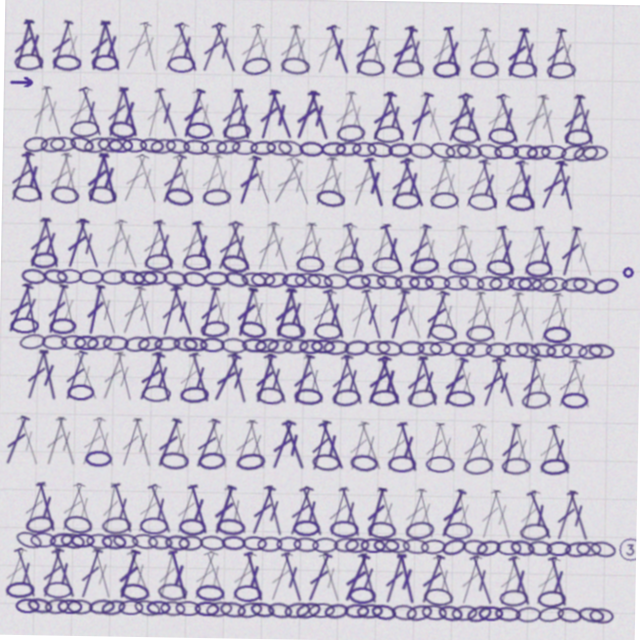chain: (237, 56, 268, 78), (219, 254, 249, 276), (238, 320, 268, 342), (85, 188, 116, 209), (313, 188, 344, 209), (408, 254, 439, 275), (408, 386, 439, 407), (522, 386, 553, 407), (66, 518, 97, 539), (408, 518, 439, 539), (465, 453, 497, 473), (18, 534, 47, 556), (447, 122, 477, 143), (428, 320, 458, 341), (28, 519, 59, 539), (470, 600, 498, 622), (219, 123, 249, 143), (48, 189, 78, 209), (162, 189, 192, 209), (200, 321, 230, 341), (333, 387, 363, 407), (238, 453, 268, 473), (124, 585, 154, 605), (428, 585, 458, 605), (65, 138, 93, 159), (426, 138, 454, 159), (556, 138, 584, 159), (444, 534, 472, 555), (299, 600, 327, 621), (105, 123, 134, 143), (485, 255, 514, 275), (276, 57, 306, 76), (542, 57, 572, 76), (333, 123, 363, 142), (10, 189, 40, 208), (333, 255, 363, 274), (219, 519, 249, 538), (523, 519, 553, 538), (162, 585, 192, 604), (80, 139, 108, 159), (274, 139, 302, 159), (569, 139, 597, 159), (222, 271, 250, 291), (305, 271, 333, 291), (138, 601, 166, 621), (410, 601, 438, 621), (257, 387, 286, 406), (200, 453, 229, 472), (314, 453, 343, 472), (352, 453, 381, 472), (390, 58, 420, 76), (371, 124, 401, 142), (473, 139, 500, 159), (200, 190, 230, 208), (143, 256, 173, 274), (571, 271, 598, 291), (592, 271, 619, 291), (276, 322, 306, 340), (515, 337, 542, 357), (542, 454, 572, 472), (105, 520, 135, 538), (479, 535, 506, 555), (105, 601, 132, 621), (241, 601, 268, 621), (363, 139, 391, 158), (359, 271, 387, 290), (457, 271, 485, 290), (19, 337, 47, 356), (86, 337, 114, 356), (593, 535, 621, 554), (288, 601, 316, 620), (542, 601, 570, 620), (582, 601, 610, 620), (10, 58, 39, 76), (48, 58, 77, 76), (352, 58, 381, 76), (428, 58, 457, 76), (67, 124, 96, 142), (485, 124, 514, 142), (561, 124, 590, 142), (390, 190, 419, 208), (466, 190, 495, 208), (504, 190, 533, 208), (29, 256, 58, 274), (314, 322, 343, 340), (466, 322, 495, 340), (181, 388, 210, 406), (295, 388, 324, 406), (371, 388, 400, 406), (162, 454, 191, 472), (504, 454, 533, 472), (371, 520, 400, 538), (10, 586, 39, 604), (200, 586, 229, 604), (504, 586, 533, 604), (542, 586, 571, 604), (212, 139, 239, 158), (262, 271, 289, 290), (137, 337, 164, 356), (254, 337, 281, 356), (52, 535, 79, 554), (513, 535, 540, 554), (31, 601, 58, 620), (371, 256, 401, 273), (524, 256, 552, 274), (376, 338, 404, 356), (182, 520, 210, 538), (210, 602, 238, 620), (466, 58, 495, 75), (504, 58, 533, 75), (428, 190, 457, 207), (295, 256, 324, 273), (447, 256, 476, 273), (10, 322, 39, 339), (143, 388, 172, 405), (447, 388, 476, 405), (390, 454, 419, 471), (428, 454, 457, 471), (143, 520, 172, 537), (333, 520, 362, 537), (447, 520, 476, 537), (48, 586, 77, 603), (238, 586, 267, 603), (147, 140, 174, 158), (453, 140, 480, 158), (118, 272, 145, 290), (161, 272, 188, 290), (375, 272, 402, 290), (124, 338, 151, 356), (267, 338, 294, 356), (466, 338, 493, 356), (63, 536, 90, 554), (568, 536, 595, 554), (224, 602, 251, 620), (254, 602, 281, 620), (328, 602, 355, 620), (375, 602, 402, 620), (442, 602, 469, 620), (561, 602, 588, 620), (87, 58, 115, 75), (163, 58, 191, 75), (182, 124, 210, 141), (182, 256, 210, 273), (49, 322, 77, 339), (543, 322, 571, 339), (68, 388, 96, 405), (562, 388, 590, 405), (87, 454, 115, 471), (296, 520, 324, 537), (353, 586, 381, 603), (20, 140, 46, 158), (37, 140, 63, 158), (405, 140, 431, 158), (523, 140, 549, 158), (20, 272, 46, 290), (42, 272, 68, 290), (181, 272, 207, 290), (240, 272, 266, 290), (344, 338, 370, 356), (578, 338, 604, 356), (272, 602, 298, 620), (94, 140, 121, 157), (263, 140, 290, 157), (332, 140, 359, 157), (579, 140, 606, 157), (541, 272, 568, 289), (560, 272, 587, 289), (154, 338, 181, 355), (283, 338, 310, 355), (530, 338, 557, 355), (546, 338, 573, 355), (588, 338, 615, 355), (116, 536, 143, 553), (135, 536, 162, 553), (406, 536, 433, 553), (93, 602, 120, 619), (313, 602, 340, 619), (361, 602, 388, 619), (456, 602, 483, 619), (136, 140, 162, 157), (162, 140, 188, 157), (488, 272, 514, 289), (173, 338, 199, 355), (183, 338, 209, 355), (337, 536, 363, 553), (348, 536, 374, 553), (388, 536, 414, 553), (466, 536, 492, 553), (531, 536, 557, 553), (49, 602, 75, 619), (426, 602, 452, 619), (442, 141, 469, 157), (221, 339, 248, 355), (323, 339, 350, 355), (203, 537, 230, 553), (499, 603, 526, 619), (520, 603, 547, 619), (180, 141, 206, 157), (198, 141, 224, 157), (247, 141, 273, 157), (424, 273, 450, 289), (531, 273, 557, 289), (365, 339, 391, 355), (90, 537, 116, 553), (151, 537, 177, 553), (168, 537, 194, 553), (297, 537, 323, 553), (316, 537, 342, 553), (424, 537, 450, 553), (72, 603, 98, 619), (396, 603, 422, 619), (296, 141, 321, 157), (318, 141, 343, 157), (385, 141, 410, 157), (132, 273, 157, 289), (323, 273, 348, 289), (345, 273, 370, 289), (394, 273, 419, 289), (408, 273, 433, 289), (418, 339, 443, 355), (486, 339, 511, 355), (105, 537, 130, 553), (182, 537, 207, 553), (261, 537, 286, 553), (165, 603, 190, 619), (594, 603, 619, 619), (47, 141, 73, 156), (229, 141, 255, 156), (538, 141, 564, 156), (56, 273, 82, 288), (294, 273, 320, 288), (476, 273, 502, 288), (42, 339, 68, 354), (61, 339, 87, 354), (103, 339, 129, 354), (399, 339, 425, 354), (562, 339, 588, 354), (34, 537, 60, 552), (377, 537, 403, 552), (180, 603, 206, 618), (105, 141, 130, 156), (119, 141, 144, 156), (349, 141, 374, 156), (491, 141, 516, 156), (510, 141, 535, 156), (78, 273, 103, 288), (100, 273, 125, 288), (142, 273, 167, 288), (203, 273, 228, 288), (250, 273, 275, 288), (281, 273, 306, 288), (443, 273, 468, 288), (507, 273, 532, 288), (517, 273, 542, 288), (74, 339, 99, 354), (200, 339, 225, 354), (242, 339, 267, 354), (299, 339, 324, 354), (311, 339, 336, 354), (430, 339, 455, 354), (451, 339, 476, 354), (504, 339, 529, 354), (74, 537, 99, 552), (225, 537, 250, 552), (246, 537, 271, 552), (280, 537, 305, 552), (364, 537, 389, 552), (500, 537, 525, 552), (550, 537, 575, 552), (580, 537, 605, 552), (20, 603, 45, 618), (62, 603, 87, 618), (123, 603, 148, 618), (151, 603, 176, 618), (199, 603, 224, 618), (349, 603, 374, 618), (483, 603, 508, 618)
double: (265, 156, 304, 208), (209, 353, 246, 406), (115, 23, 151, 76), (203, 23, 238, 76), (381, 23, 416, 76), (115, 155, 150, 208), (457, 155, 492, 208), (533, 155, 568, 208), (134, 353, 169, 406), (317, 419, 352, 472), (526, 485, 561, 538), (127, 551, 162, 604), (343, 551, 378, 604), (154, 23, 188, 76), (59, 89, 93, 142), (71, 89, 105, 142), (147, 89, 181, 142), (185, 89, 219, 142), (261, 89, 295, 142), (439, 89, 473, 142), (451, 89, 485, 142), (515, 89, 549, 142), (154, 155, 188, 208), (280, 155, 314, 208), (394, 155, 428, 208), (496, 155, 530, 208), (109, 221, 143, 274), (211, 221, 245, 274), (325, 221, 359, 274), (375, 221, 409, 274), (477, 221, 511, 274), (2, 287, 36, 340), (306, 287, 340, 340), (394, 287, 428, 340), (71, 353, 105, 406), (439, 353, 473, 406), (192, 419, 226, 472), (356, 419, 390, 472), (458, 419, 492, 472), (147, 485, 181, 538), (223, 485, 257, 538), (439, 485, 473, 538), (52, 551, 86, 604), (192, 551, 226, 604), (230, 551, 264, 604), (306, 551, 340, 604), (534, 551, 568, 604), (166, 23, 199, 76), (192, 23, 225, 76), (230, 23, 263, 76), (318, 23, 351, 76), (287, 89, 320, 142), (363, 89, 396, 142), (413, 89, 446, 142), (477, 89, 510, 142), (489, 89, 522, 142), (166, 155, 199, 208), (242, 155, 275, 208), (71, 221, 104, 274), (173, 221, 206, 274), (223, 221, 256, 274), (116, 287, 149, 340), (166, 287, 199, 340), (420, 287, 453, 340), (432, 287, 465, 340), (508, 287, 541, 340), (534, 287, 567, 340), (97, 353, 130, 406), (261, 353, 294, 406), (363, 353, 396, 406), (375, 353, 408, 406), (489, 353, 522, 406), (527, 353, 560, 406), (553, 353, 586, 406), (2, 419, 35, 472), (78, 419, 111, 472), (154, 419, 187, 472), (268, 419, 301, 472), (280, 419, 313, 472), (470, 419, 503, 472), (546, 419, 579, 472), (59, 485, 92, 538), (135, 485, 168, 538), (249, 485, 282, 538), (287, 485, 320, 538), (299, 485, 332, 538), (14, 551, 47, 604), (204, 551, 237, 604), (420, 551, 453, 604), (470, 551, 503, 604), (243, 23, 275, 76), (307, 23, 339, 76), (345, 23, 377, 76), (547, 23, 579, 76), (300, 89, 332, 142), (376, 89, 408, 142), (3, 155, 35, 208), (15, 155, 47, 208), (41, 155, 73, 208), (129, 155, 161, 208), (307, 155, 339, 208), (345, 155, 377, 208), (383, 155, 415, 208), (433, 155, 465, 208), (136, 221, 168, 274), (250, 221, 282, 274), (262, 221, 294, 274), (402, 221, 434, 274), (414, 221, 446, 274), (452, 221, 484, 274), (566, 221, 598, 274), (91, 287, 123, 340), (319, 287, 351, 340), (471, 287, 503, 340), (60, 353, 92, 406), (300, 353, 332, 406), (338, 353, 370, 406), (478, 353, 510, 406), (566, 353, 598, 406), (15, 419, 47, 472), (91, 419, 123, 472), (231, 419, 263, 472), (110, 485, 142, 538), (338, 485, 370, 538), (402, 485, 434, 538), (566, 485, 598, 538), (3, 551, 35, 604), (269, 551, 301, 604), (281, 551, 313, 604), (319, 551, 351, 604), (433, 551, 465, 604), (509, 551, 541, 604), (15, 23, 46, 76), (41, 23, 72, 76), (269, 23, 300, 76), (281, 23, 312, 76), (357, 23, 388, 76), (459, 23, 490, 76), (471, 23, 502, 76), (497, 23, 528, 76), (34, 89, 65, 142), (174, 89, 205, 142), (326, 89, 357, 142), (338, 89, 369, 142), (402, 89, 433, 142), (193, 155, 224, 208), (231, 155, 262, 208), (421, 155, 452, 208), (509, 155, 540, 208), (60, 221, 91, 274), (148, 221, 179, 274), (288, 221, 319, 274), (338, 221, 369, 274), (516, 221, 547, 274), (357, 287, 388, 340), (22, 353, 53, 406), (174, 353, 205, 406), (186, 353, 217, 406), (53, 419, 84, 472), (383, 419, 414, 472), (395, 419, 426, 472), (535, 419, 566, 472), (22, 485, 53, 538), (72, 485, 103, 538), (174, 485, 205, 538), (212, 485, 243, 538), (376, 485, 407, 538), (490, 485, 521, 538), (554, 485, 585, 538), (41, 551, 72, 604), (79, 551, 110, 604), (92, 23, 122, 76), (396, 23, 426, 76), (422, 23, 452, 76), (510, 23, 540, 76), (111, 89, 141, 142), (213, 89, 243, 142), (555, 89, 585, 142), (567, 89, 597, 142), (80, 155, 110, 208), (358, 155, 388, 208), (472, 155, 502, 208), (23, 221, 53, 274), (99, 221, 129, 274), (187, 221, 217, 274), (441, 221, 471, 274), (529, 221, 559, 274), (206, 287, 236, 340), (270, 287, 300, 340), (251, 353, 281, 406), (289, 353, 319, 406), (327, 353, 357, 406), (415, 353, 445, 406), (453, 353, 483, 406), (42, 419, 72, 472), (118, 419, 148, 472), (130, 419, 160, 472), (206, 419, 236, 472), (244, 419, 274, 472), (434, 419, 464, 472), (35, 485, 65, 538), (187, 485, 217, 538), (517, 485, 547, 538), (92, 551, 122, 604), (118, 551, 148, 604), (168, 551, 198, 604), (244, 551, 274, 604), (358, 551, 388, 604), (384, 551, 414, 604), (460, 551, 490, 604), (498, 551, 528, 604), (548, 551, 578, 604), (54, 23, 83, 76), (99, 89, 128, 142), (251, 89, 280, 142), (54, 155, 83, 208), (92, 155, 121, 208), (206, 155, 235, 208), (320, 155, 349, 208), (35, 221, 64, 274), (301, 221, 330, 274), (365, 221, 394, 274), (555, 221, 584, 274), (42, 287, 71, 340), (130, 287, 159, 340), (156, 287, 185, 340), (232, 287, 261, 340), (244, 287, 273, 340), (282, 287, 311, 340), (346, 287, 375, 340), (384, 287, 413, 340), (498, 287, 527, 340), (548, 287, 577, 340), (111, 353, 140, 406), (149, 353, 178, 406), (225, 353, 254, 406), (403, 353, 432, 406), (308, 419, 337, 472), (346, 419, 375, 472), (510, 419, 539, 472), (263, 485, 292, 538), (327, 485, 356, 538), (365, 485, 394, 538), (415, 485, 444, 538), (479, 485, 508, 538), (5, 23, 33, 76), (81, 23, 109, 76), (131, 23, 159, 76), (537, 23, 565, 76), (24, 89, 52, 142), (138, 89, 166, 142), (530, 89, 558, 142), (549, 155, 577, 208), (492, 221, 520, 274), (55, 287, 83, 340), (195, 287, 223, 340), (461, 287, 489, 340), (36, 353, 64, 406), (169, 419, 197, 472), (157, 551, 185, 604), (397, 551, 425, 604), (435, 23, 462, 76), (226, 89, 253, 142), (423, 419, 450, 472), (499, 419, 526, 472), (454, 485, 481, 538), (82, 287, 108, 340), (519, 353, 545, 406), (18, 287, 43, 340), (101, 485, 126, 538)
noise: (621, 531, 640, 558), (5, 82, 31, 92), (621, 261, 634, 274)
